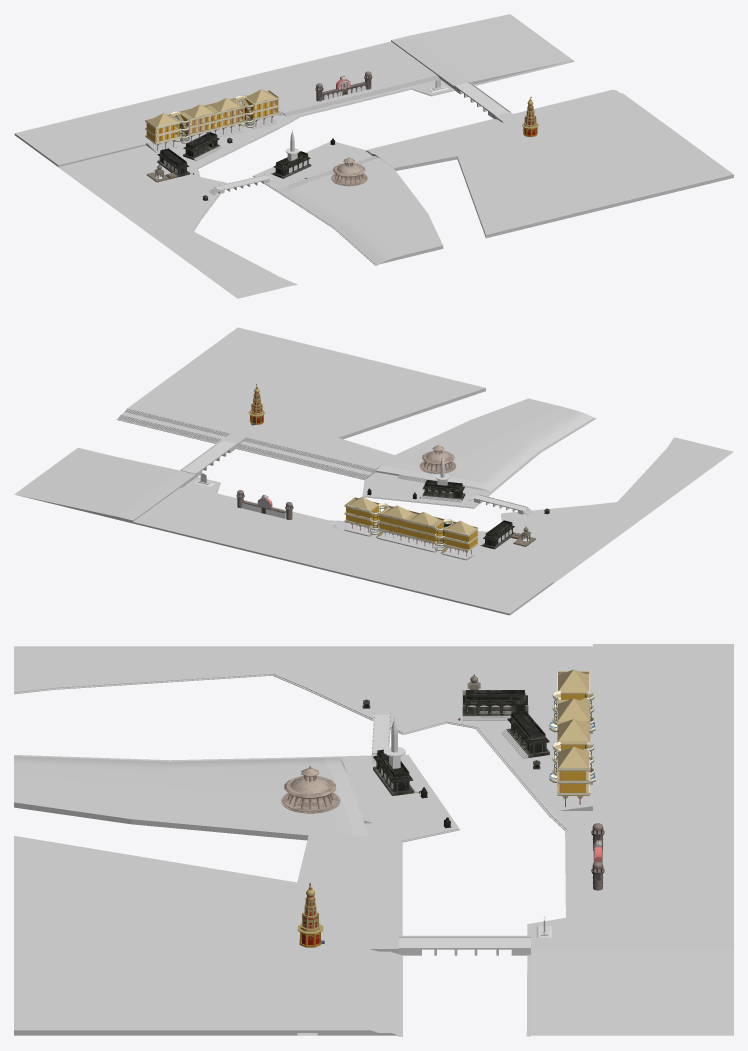
Rendered from Godavri_Ghat.fbx.
3 renders of one model, top to bottom at view 1: azimuth 30°, elevation 25°; view 2: azimuth 150°, elevation 25°; view 3: azimuth 270°, elevation 25°, orthographic. The views are drawn at different scales.
Visible parts, largest first — view 1: BASE, Cube, STEPS.005, BASE.001, YELLOW BUILDING, STEPS.011, STEPS.012, STEPS, BRIDGE (×2), STEPS.001, godavari-building-5, ROUND BUILDING (+3 smaller); view 2: Cube, BASE, STEPS.005, BASE.001, STEPS.011, YELLOW BUILDING, STEPS.012, BRIDGE (×2), STEPS.001, godavari-building-5, ROUND BUILDING, GRAY BUIDING.002 (+3 smaller); view 3: BASE, Cube, STEPS.005, BASE.001, STEPS.011, STEPS.012, YELLOW BUILDING, BRIDGE (×2), STEPS, STEPS.001, ROUND BUILDING, GRAY BUIDING.001 (+4 smaller).
Boxes of the visible parts, bbox=[...] form: BASE: bbox=[14, 14, 572, 298]; Cube: bbox=[457, 110, 733, 238]; STEPS.005: bbox=[14, 41, 439, 166]; BASE.001: bbox=[255, 142, 443, 264]; YELLOW BUILDING: bbox=[145, 89, 279, 150]; STEPS.011: bbox=[366, 119, 526, 170]; STEPS.012: bbox=[514, 90, 645, 135]; STEPS: bbox=[191, 60, 574, 285]; BRIDGE (×2): bbox=[209, 81, 510, 195]; STEPS.001: bbox=[252, 89, 613, 265]; godavari-building-5: bbox=[315, 71, 372, 101]; ROUND BUILDING: bbox=[331, 157, 367, 186]; Cube: bbox=[150, 327, 485, 446]; BASE: bbox=[14, 438, 733, 615]; STEPS.005: bbox=[133, 487, 553, 615]; BASE.001: bbox=[364, 398, 593, 506]; STEPS.011: bbox=[237, 421, 394, 478]; YELLOW BUILDING: bbox=[344, 497, 478, 556]; STEPS.012: bbox=[118, 392, 249, 442]; BRIDGE (×2): bbox=[180, 439, 533, 515]; STEPS.001: bbox=[117, 417, 596, 508]; godavari-building-5: bbox=[236, 490, 293, 519]; ROUND BUILDING: bbox=[419, 444, 456, 473]; GRAY BUIDING.002: bbox=[422, 480, 465, 500]; BASE: bbox=[14, 646, 733, 1035]; Cube: bbox=[14, 836, 398, 1035]; STEPS.005: bbox=[576, 644, 733, 937]; BASE.001: bbox=[14, 755, 455, 1035]; STEPS.011: bbox=[297, 835, 398, 936]; STEPS.012: bbox=[297, 949, 398, 1035]; YELLOW BUILDING: bbox=[549, 669, 595, 806]; BRIDGE (×2): bbox=[371, 712, 530, 955]; STEPS: bbox=[14, 673, 569, 1036]; STEPS.001: bbox=[14, 754, 459, 1036]; ROUND BUILDING: bbox=[281, 765, 340, 813]; GRAY BUIDING.001: bbox=[462, 690, 528, 715].
Size of the model in its own units: 36835 by 2952 by 28779.
